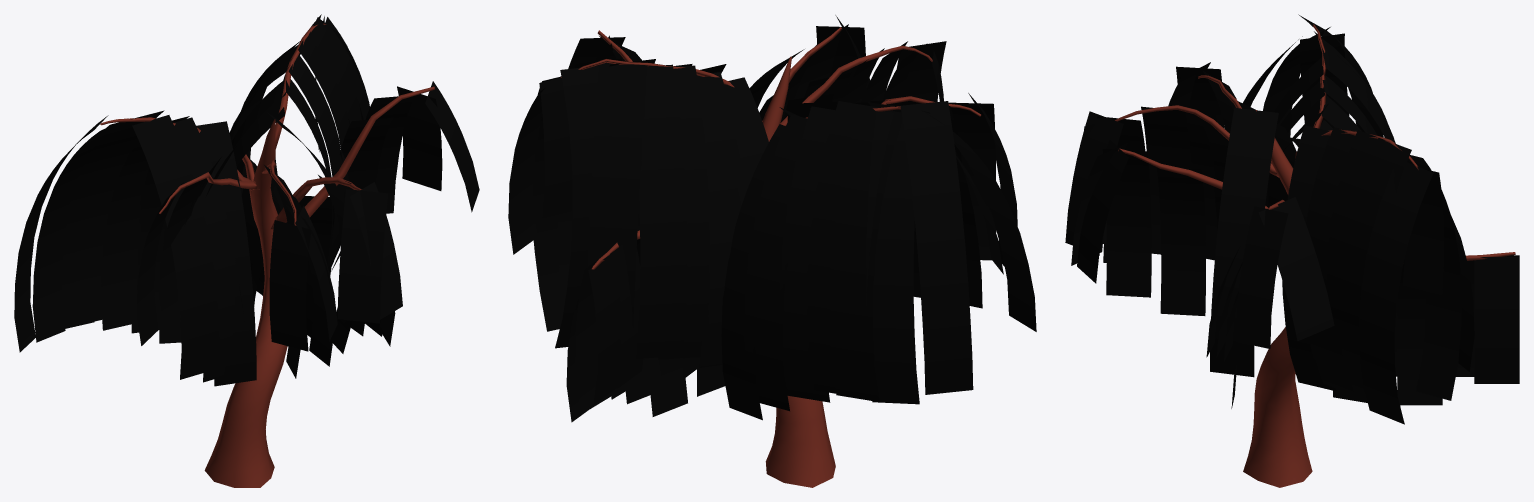
Rendered from SM_Willow.fbx.
3 renders of one model, left to right at view 1: azimuth 30°, elevation 25°; view 2: azimuth 150°, elevation 25°; view 3: azimuth 270°, elevation 25°, orthographic. The views are drawn at different scales.
Visible parts, largest first — view 1: pPlane167; view 2: pPlane167; view 3: pPlane167.
Boxes of the visible parts, x1=… form: pPlane167: x1=14, y1=14, x2=479, y2=487; pPlane167: x1=508, y1=15, x2=1036, y2=487; pPlane167: x1=1065, y1=14, x2=1519, y2=487.
Bounding box in the file's own units: 376 × 322 × 337.
